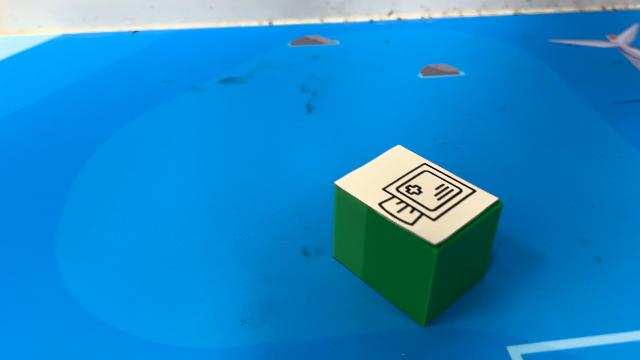napkin: (331, 142, 505, 328)
